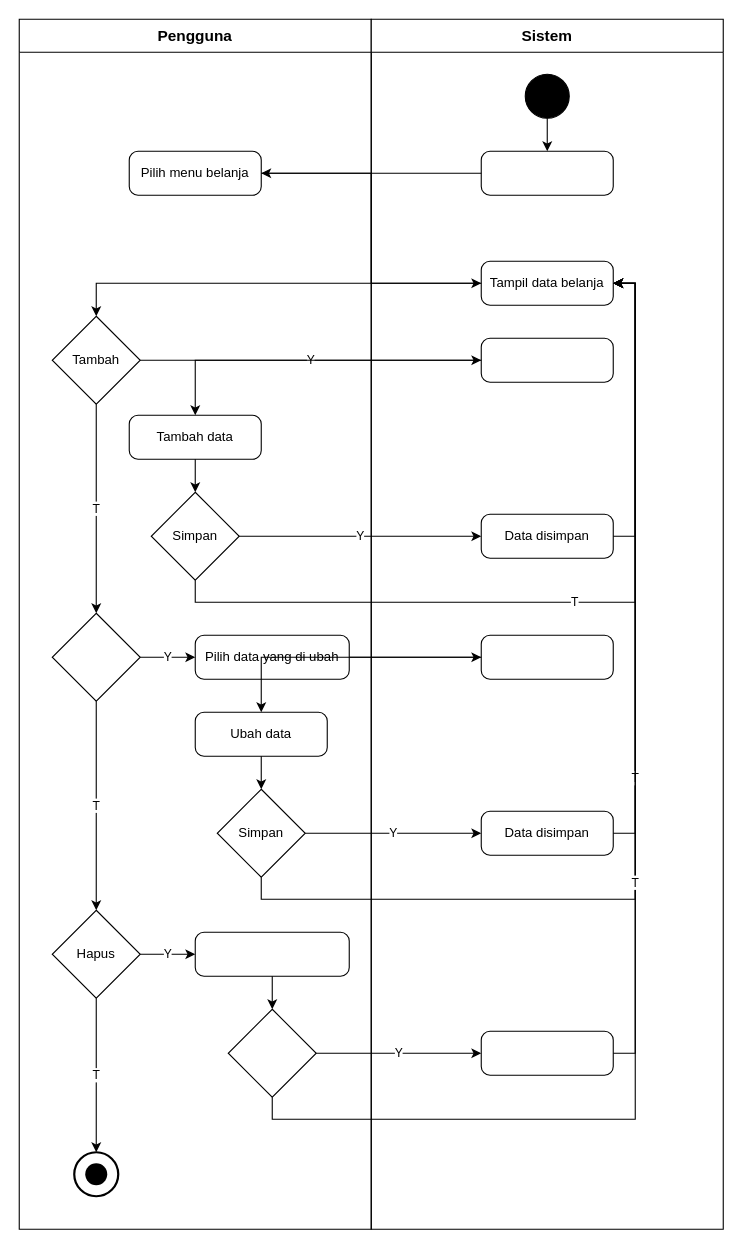
Image size: 743x1249. Some labels were removed from this diagram. Here are the shapes that lost their labels. From the top down, the centre of each, then its label:
At pixel 546 172: "Tampil beranda".
At pixel 546 359: "Tampil form tambah".
At pixel 95 656: "Ubah".
At pixel 546 656: "Tampil form ubah".
At pixel 271 953: "Pilih data yang akan dihapus".
At pixel 271 1052: "Yakin hapus".
At pixel 546 1052: "Data dihapus".
